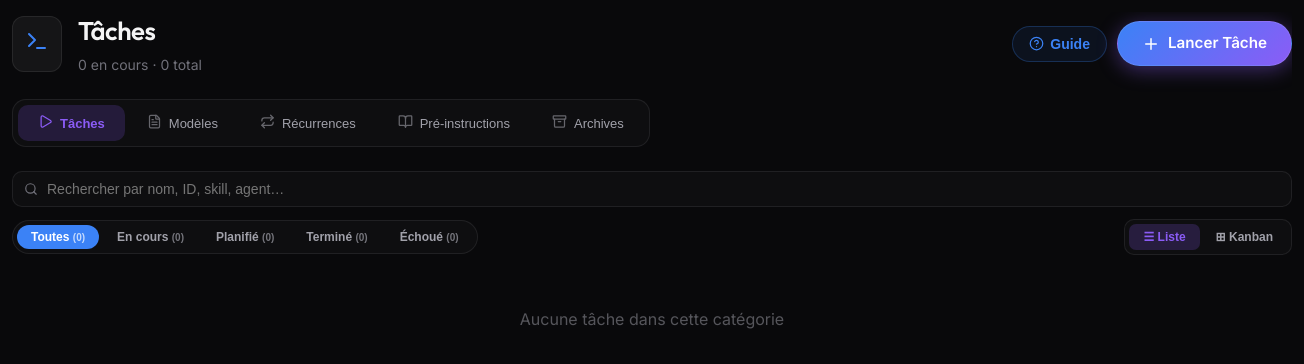
it: TachesPage — tab navigation › clicking Modèles tab shows model empty state
This screenshot has width=1304, height=364.
Click the button "Modèles".
click(182, 123)  # box [127,105,238,141]
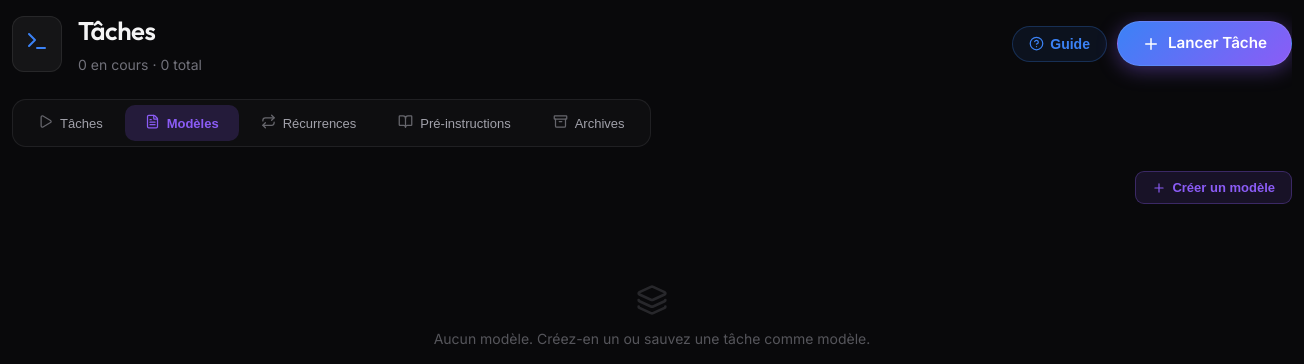
Now the text "Aucun modèle. Créez-en un ou sauvez une tâche comme modèle." is shown, box [434,330,870,347]
